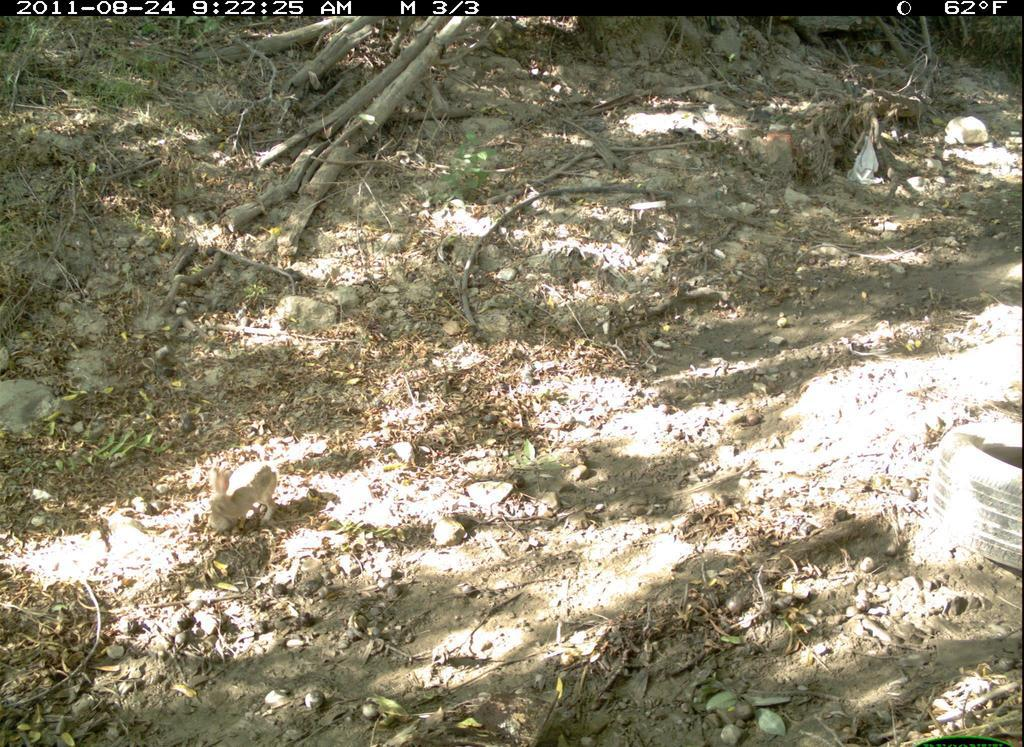rabbit: (203, 445, 286, 538)
